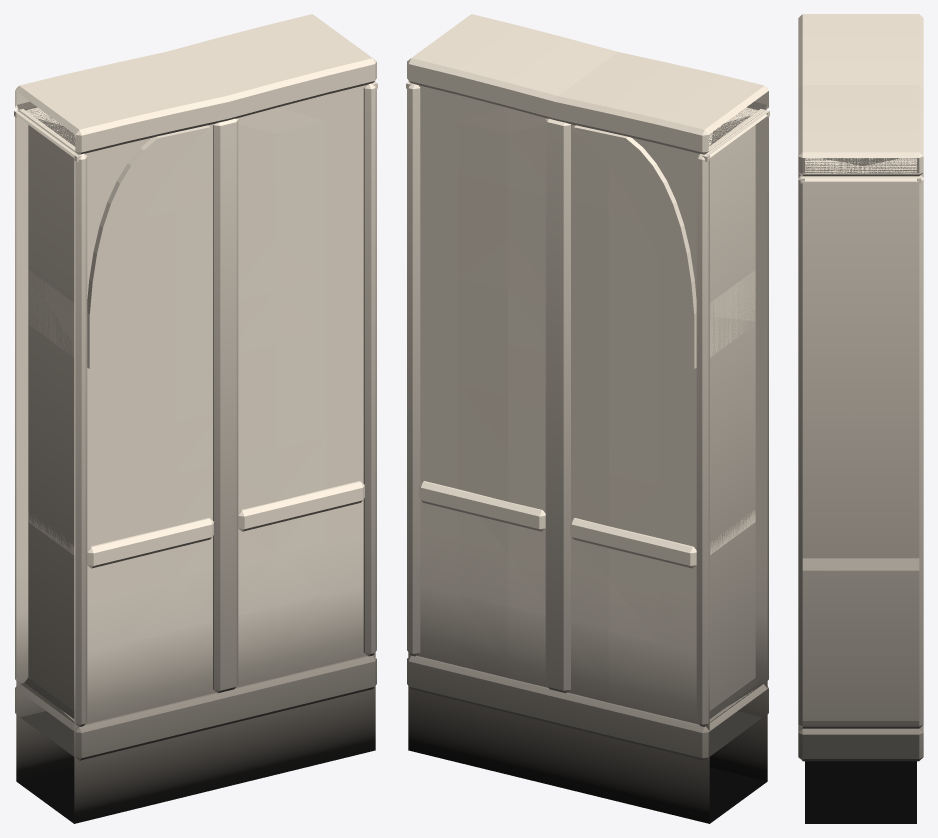
File: SM_VKI_Wall_Timber_Plain_150B_Full.fbx
The picture shows the model from 3 angles, left to right: view 1: azimuth 30°, elevation 25°; view 2: azimuth 150°, elevation 25°; view 3: azimuth 270°, elevation 25°; orthographic projection. The views are drawn at different scales.
Visible parts, largest first — view 1: SM_VKI_Wall_Timber_Plain_150B_Full.001; view 2: SM_VKI_Wall_Timber_Plain_150B_Full.001; view 3: SM_VKI_Wall_Timber_Plain_150B_Full.001.
Part boxes in pixels (<box>): SM_VKI_Wall_Timber_Plain_150B_Full.001: <box>14,14,377,823</box>; SM_VKI_Wall_Timber_Plain_150B_Full.001: <box>406,14,769,823</box>; SM_VKI_Wall_Timber_Plain_150B_Full.001: <box>798,14,923,823</box>.
Bounding box in the file's own units: 1.5 × 3.3 × 0.56.
